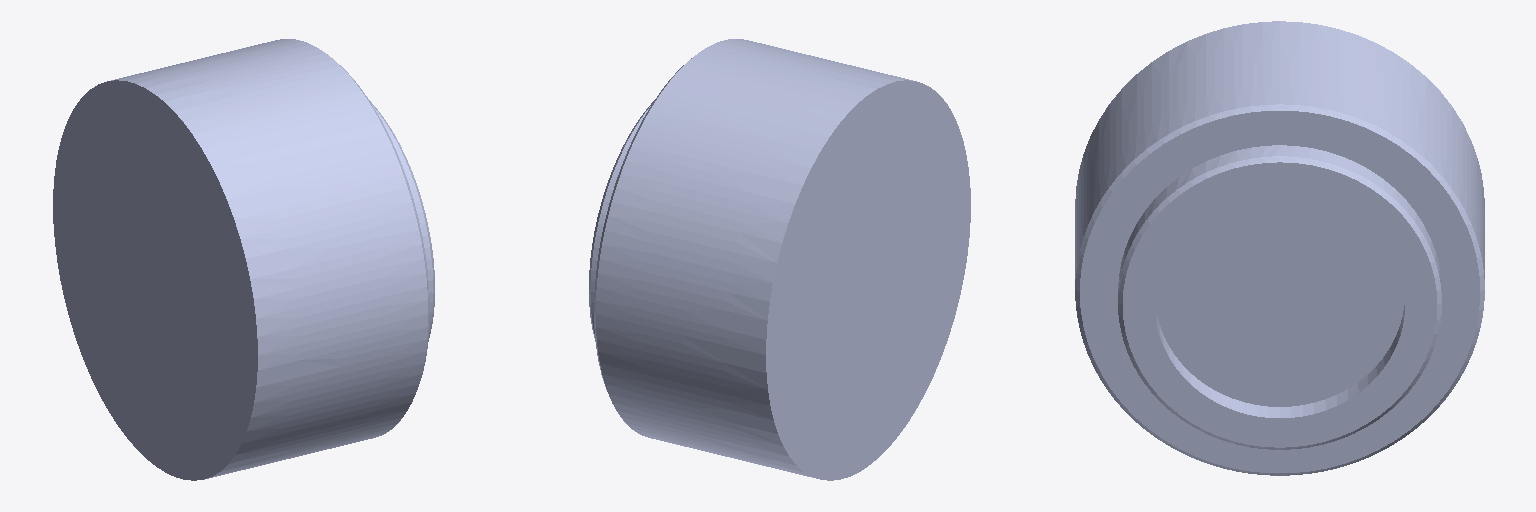
The picture shows the model from 3 angles: view 1: azimuth 30°, elevation 25°; view 2: azimuth 150°, elevation 25°; view 3: azimuth 270°, elevation 25°; orthographic projection.
Parts seen in each view (by area): view 1: [number redacted]; view 2: [number redacted]; view 3: [number redacted].
Boxes of the visible parts, <box> form: [number redacted]: <box>53,39,434,480</box>; [number redacted]: <box>589,39,970,480</box>; [number redacted]: <box>1075,21,1484,475</box>.
Bounding box in the file's own units: 0.2291 × 0.4045 × 0.4045.